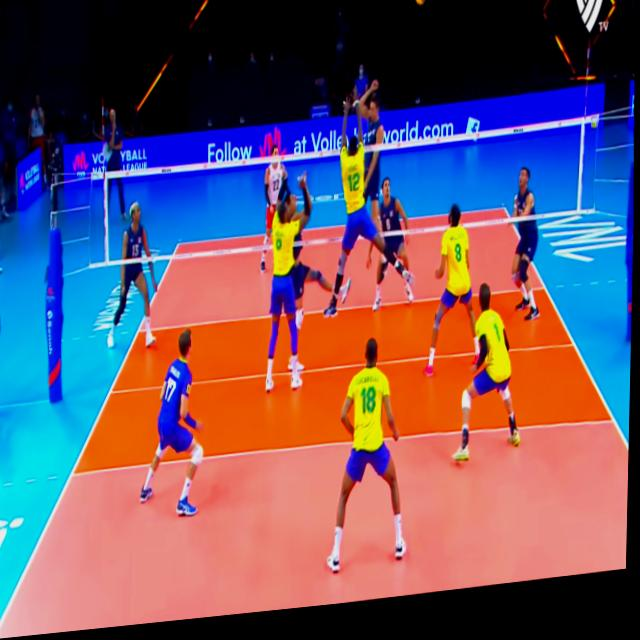player: (325, 339, 414, 580), (324, 96, 415, 315), (136, 330, 212, 527), (454, 289, 525, 470), (424, 210, 490, 389), (265, 188, 317, 401), (111, 195, 164, 356), (351, 77, 392, 271), (512, 177, 543, 336), (376, 181, 413, 306), (260, 147, 290, 280)
